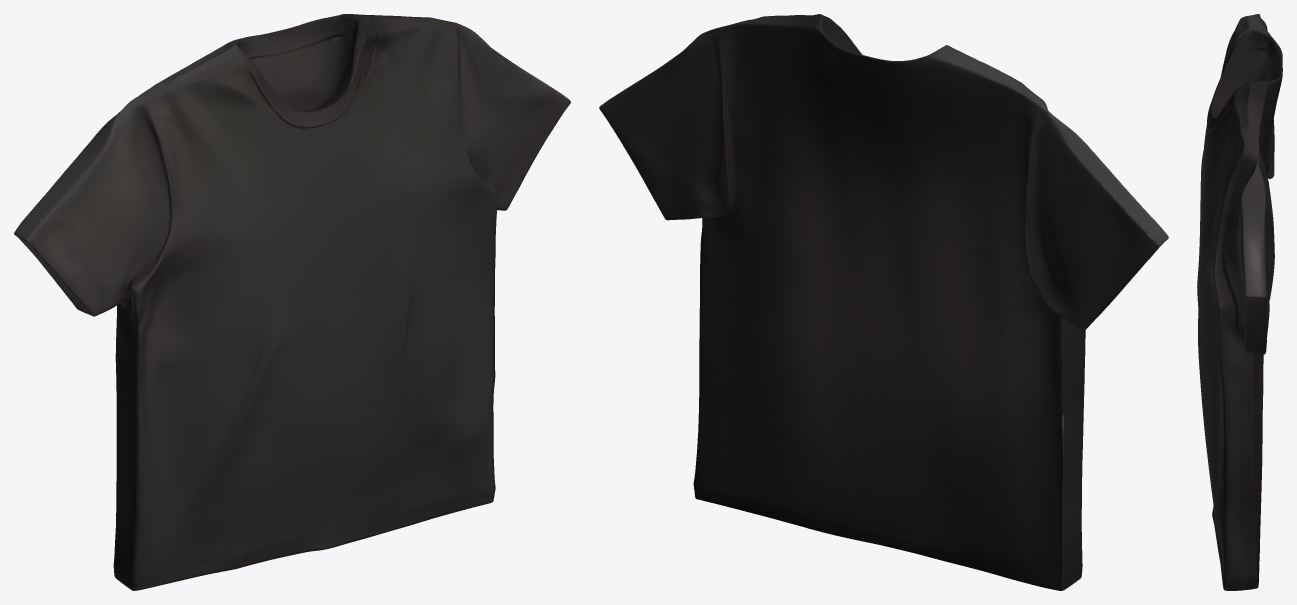
The model's file is black tshirt 3d.glb.
The picture shows the model from 3 angles, left to right: view 1: azimuth 30°, elevation 25°; view 2: azimuth 150°, elevation 25°; view 3: azimuth 270°, elevation 25°; orthographic projection. The views are drawn at different scales.
Parts seen in each view (by area): view 1: model; view 2: model; view 3: model.
Boxes of the visible parts, <box> form: model: <box>14,14,570,590</box>; model: <box>599,14,1168,590</box>; model: <box>1197,14,1282,590</box>.
Size of the model in its own units: 1.9 by 1.67 by 0.2833.
1 material, 1 textured.
